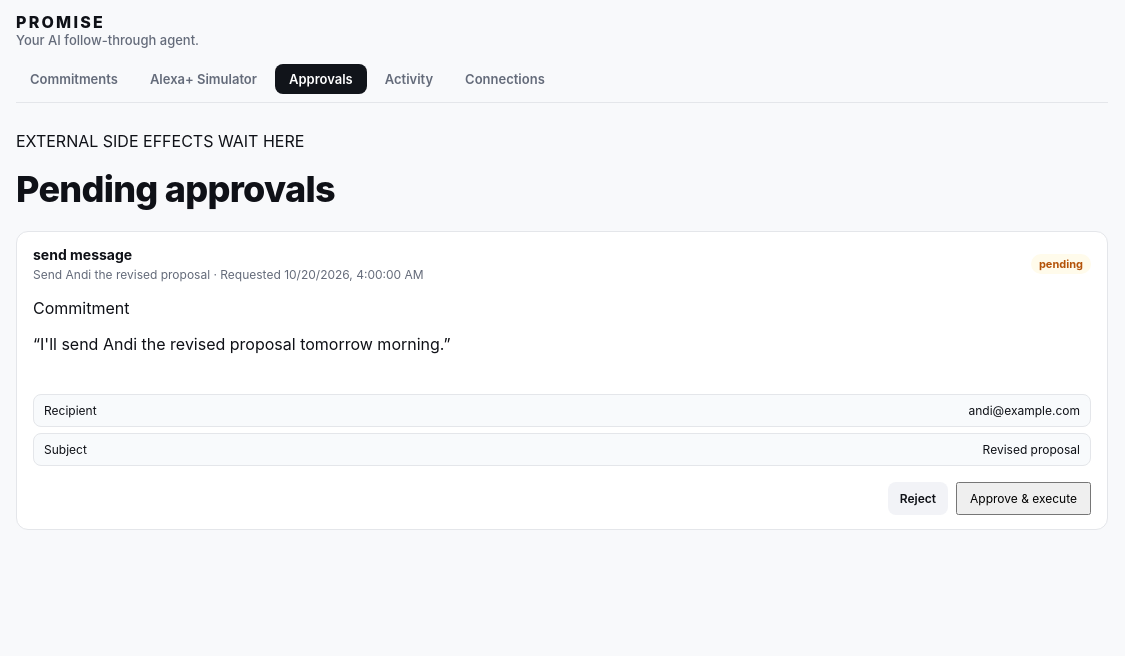
Test: ApprovalsPage – generic error › re-enables buttons after an error so the user can retry
Click the button with test id "btn-approve" at (1024, 498), box [956,482,1091,515]
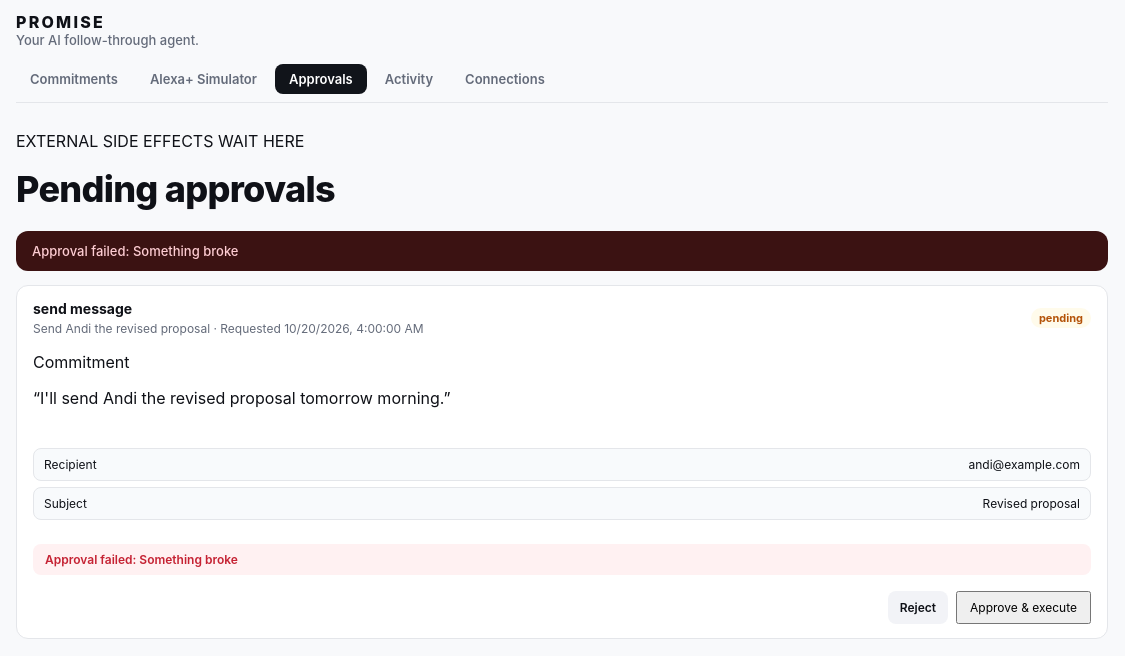
Expected: the button with test id "btn-approve" is enabled, [956,591,1091,624]
Expected: the message with test id "page-notice" is shown, [16,231,1108,271]
